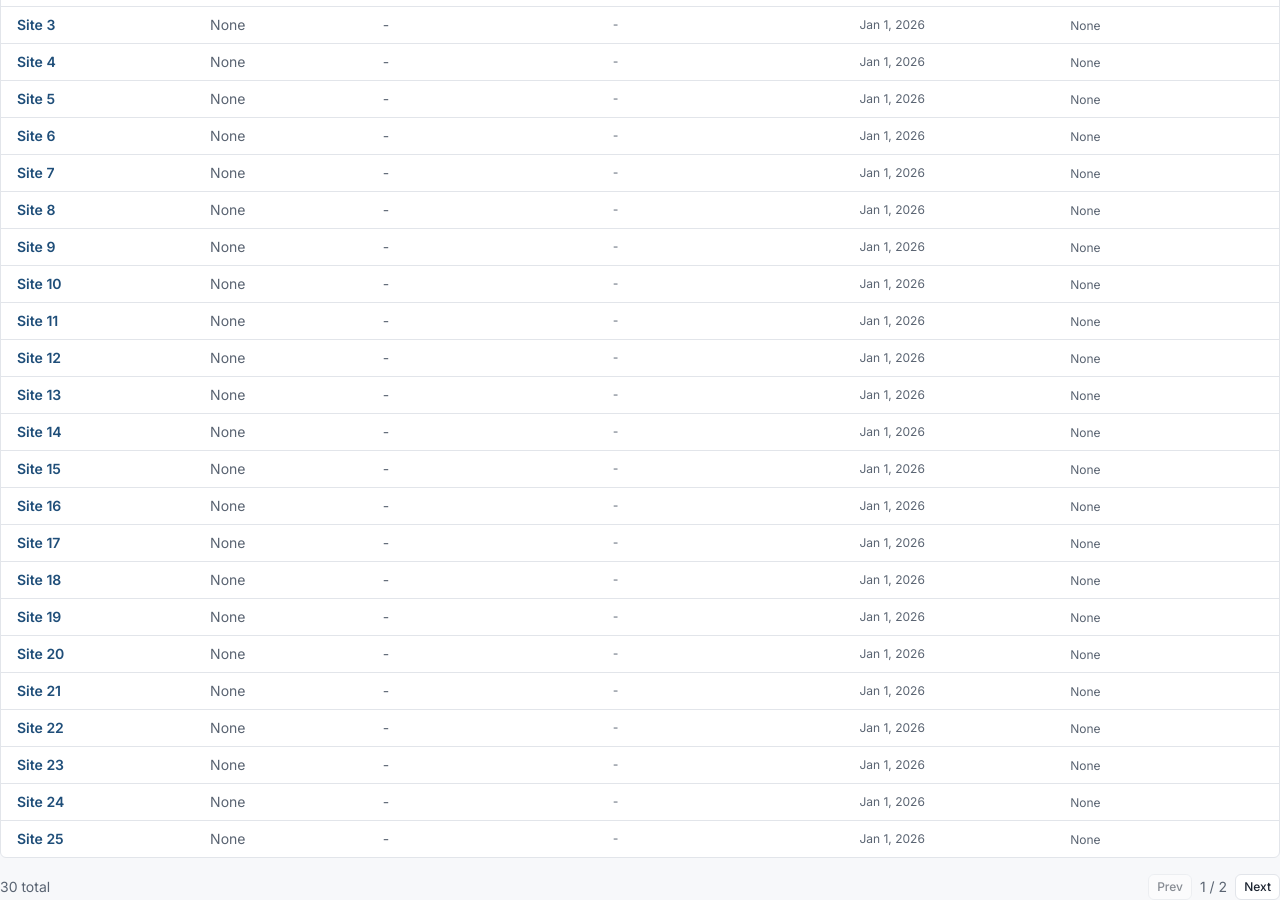
Test: sites list paging › asks for the next page
This screenshot has width=1280, height=900.
(page scrolled)
Expected: the text "1 / 2" is shown, [1200,877,1227,897]
Click the button "Next".
click(1258, 887)  # box [1235,874,1279,899]
(page scrolled)
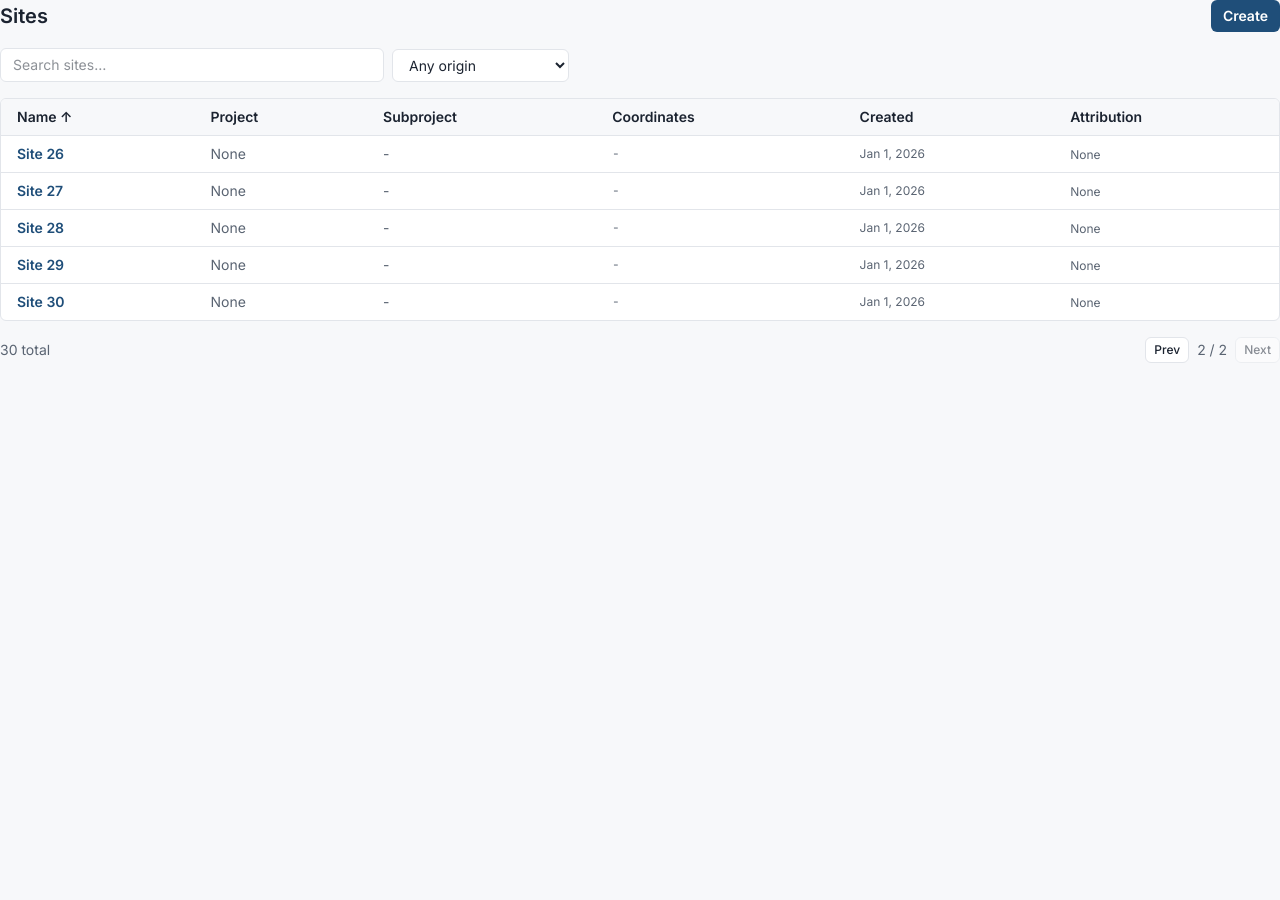
Expected: the text "2 / 2" is shown, [1197,340,1227,360]
